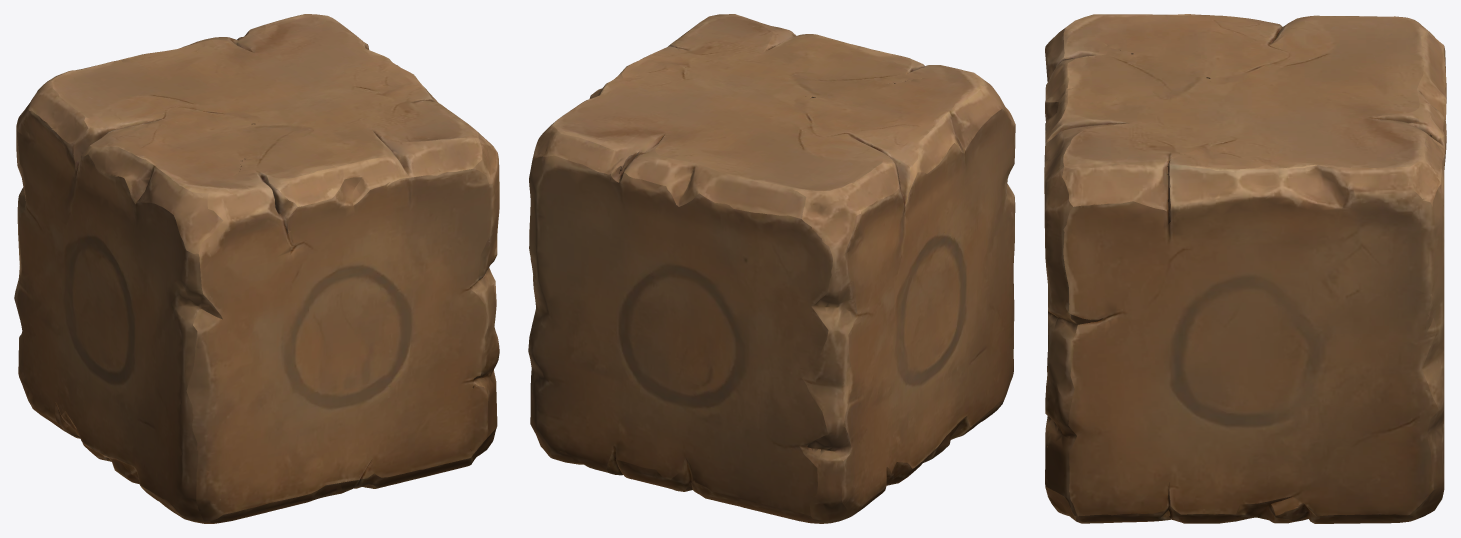
The model's file is obj_block.glb.
The picture shows the model from 3 angles, left to right: view 1: azimuth 30°, elevation 25°; view 2: azimuth 150°, elevation 25°; view 3: azimuth 270°, elevation 25°; orthographic projection. The views are drawn at different scales.
Visible parts, largest first — view 1: world; view 2: world; view 3: world.
Boxes of the visible parts, bbox=[...] form: world: bbox=[14, 14, 499, 523]; world: bbox=[528, 14, 1015, 523]; world: bbox=[1044, 14, 1446, 523].
Size of the model in its own units: 0.45 by 0.45 by 0.45.
1 material, 1 textured.
